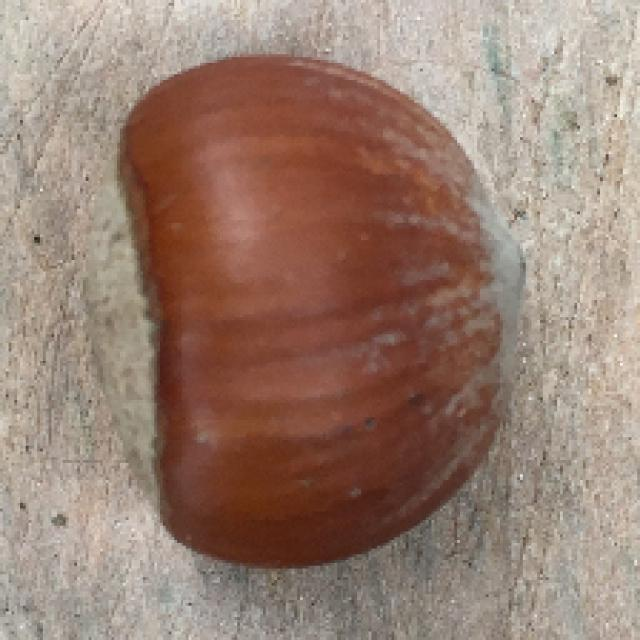qualityHazelnut: (89, 51, 528, 574)
